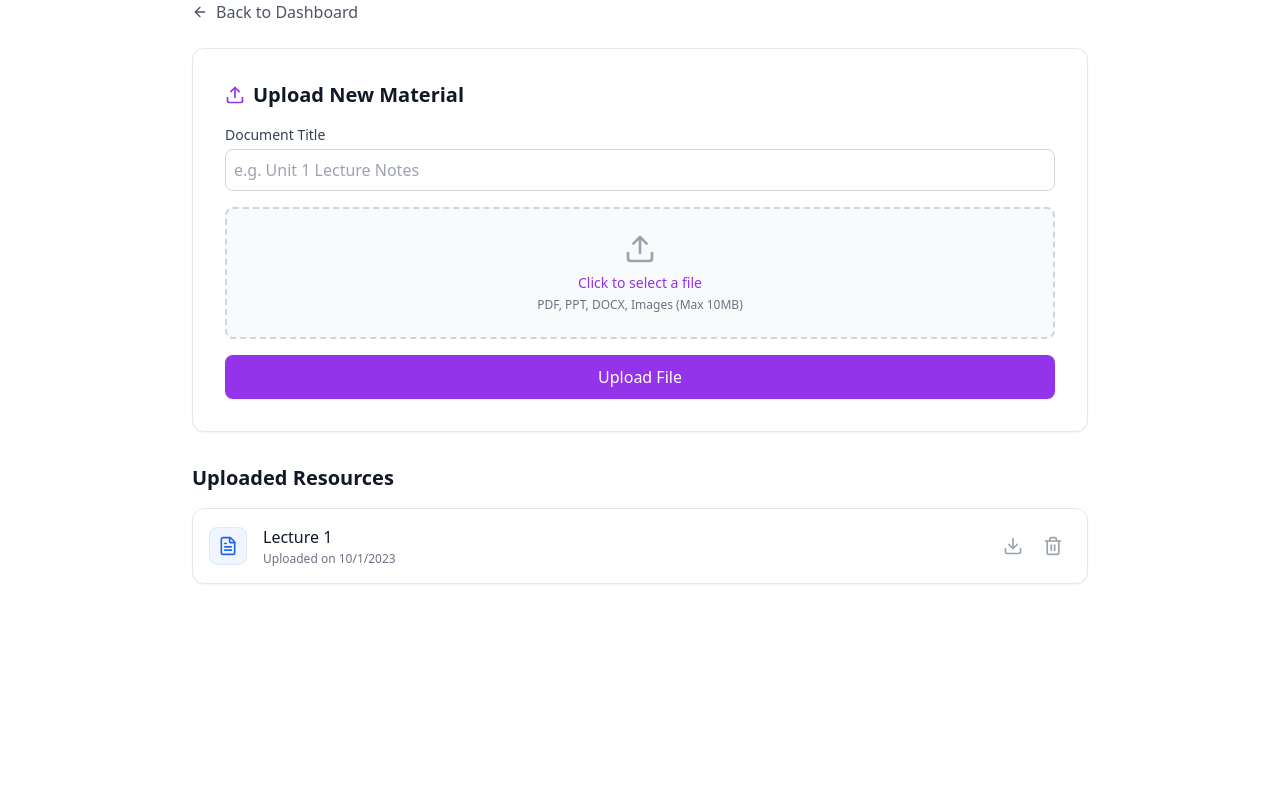
Test case: ResourceCenter Component › handles resource deletion
The width and height of the screenshot is (1280, 800).
Click the button titled "Delete" at (1053, 546), box [1035,528,1071,564]
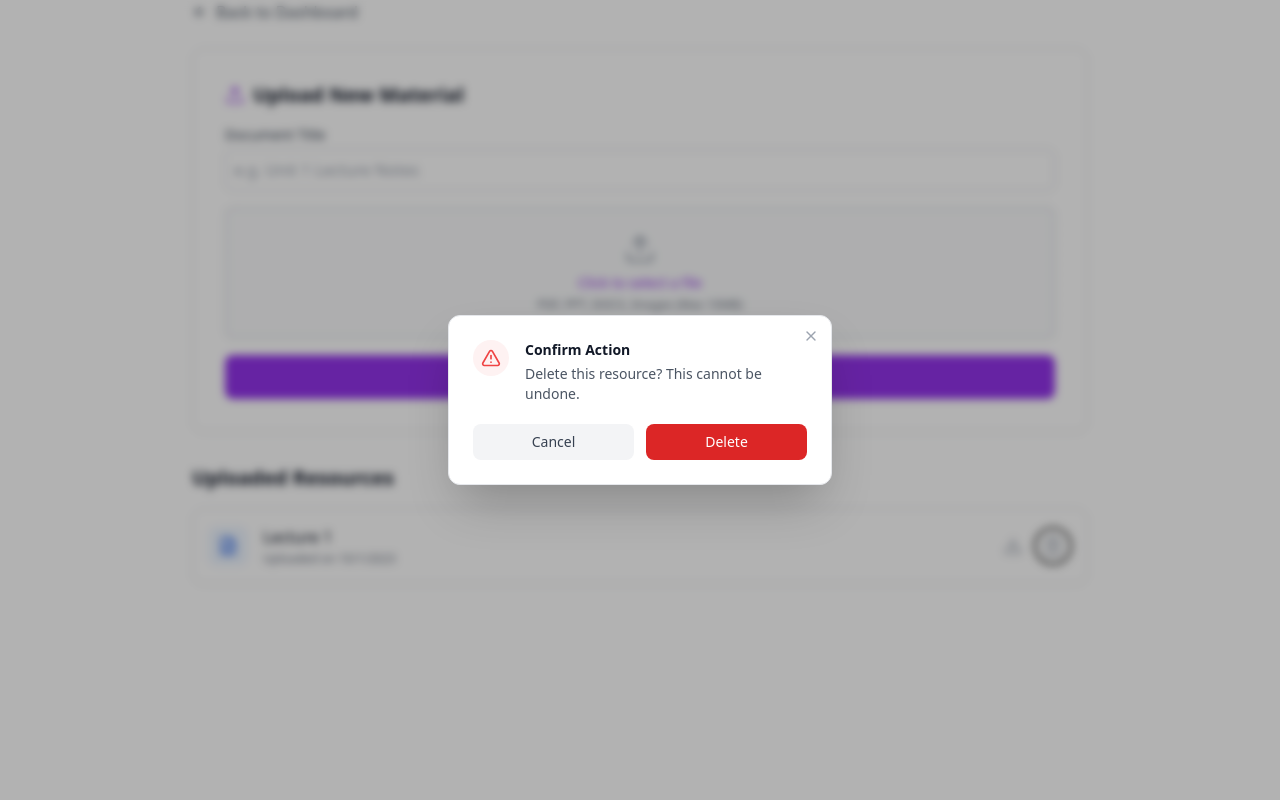
Click the button "Delete" at (726, 442), box [646,424,807,460]
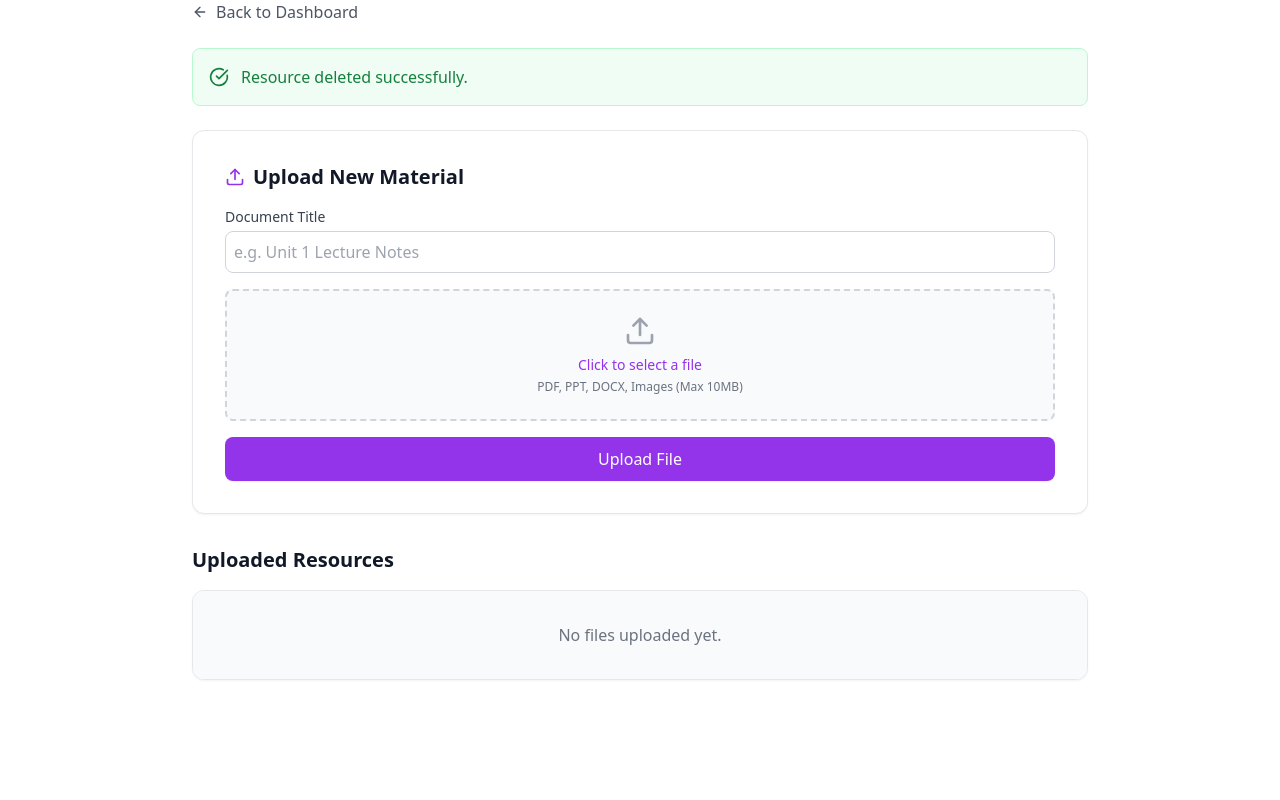
Result: the text "Resource deleted successfully." is shown at [241,65,468,89]
